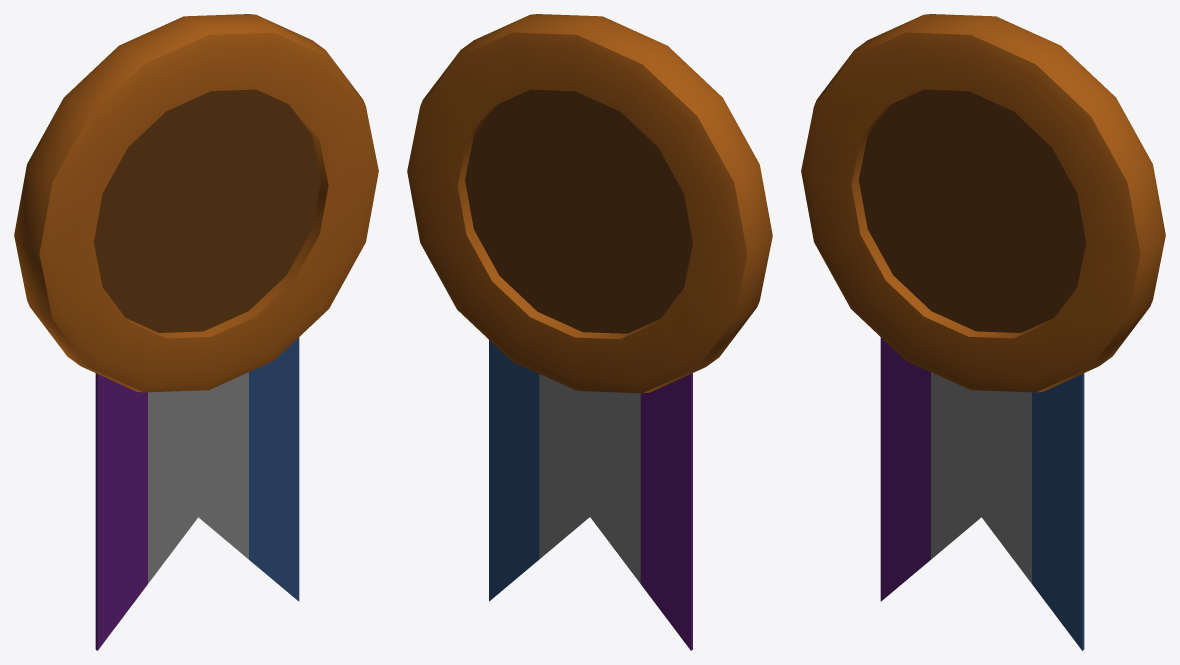
Rendered from Medalla.fbx.
The picture shows the model from 3 angles, left to right: view 1: azimuth 30°, elevation 25°; view 2: azimuth 150°, elevation 25°; view 3: azimuth 330°, elevation 25°; orthographic projection.
Visible parts, largest first — view 1: bitcoin; view 2: bitcoin; view 3: bitcoin.
Boxes of the visible parts, left/top/right/bottom form: bitcoin: left=14, top=14, right=378, bottom=650; bitcoin: left=407, top=14, right=772, bottom=650; bitcoin: left=801, top=14, right=1165, bottom=650.
Bounding box in the file's own units: 19.43 × 32.31 × 2.85.
